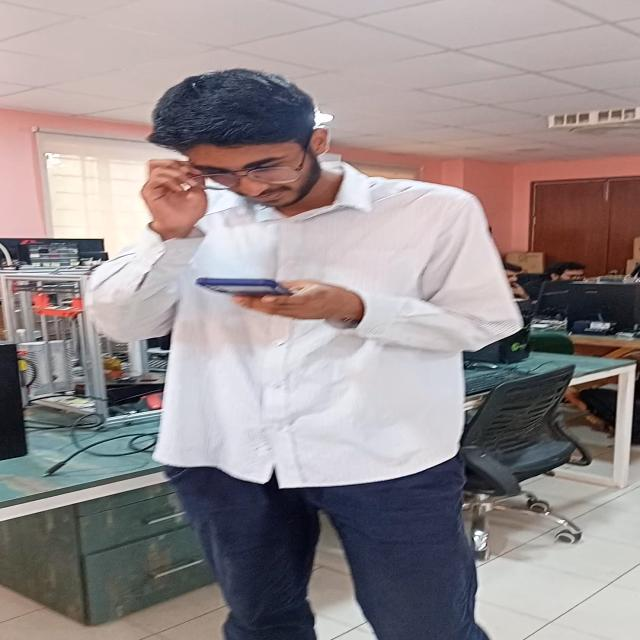dress: (108, 166, 524, 640)
glasses: (176, 158, 318, 184)
